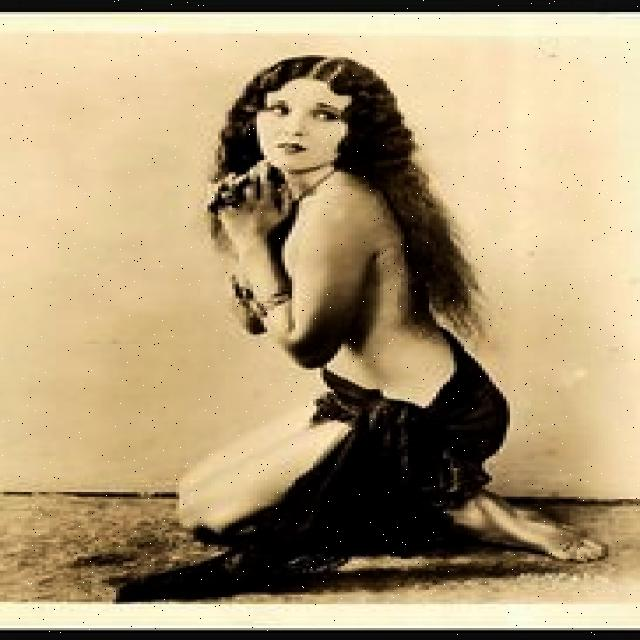picture: (140, 46, 610, 593)
